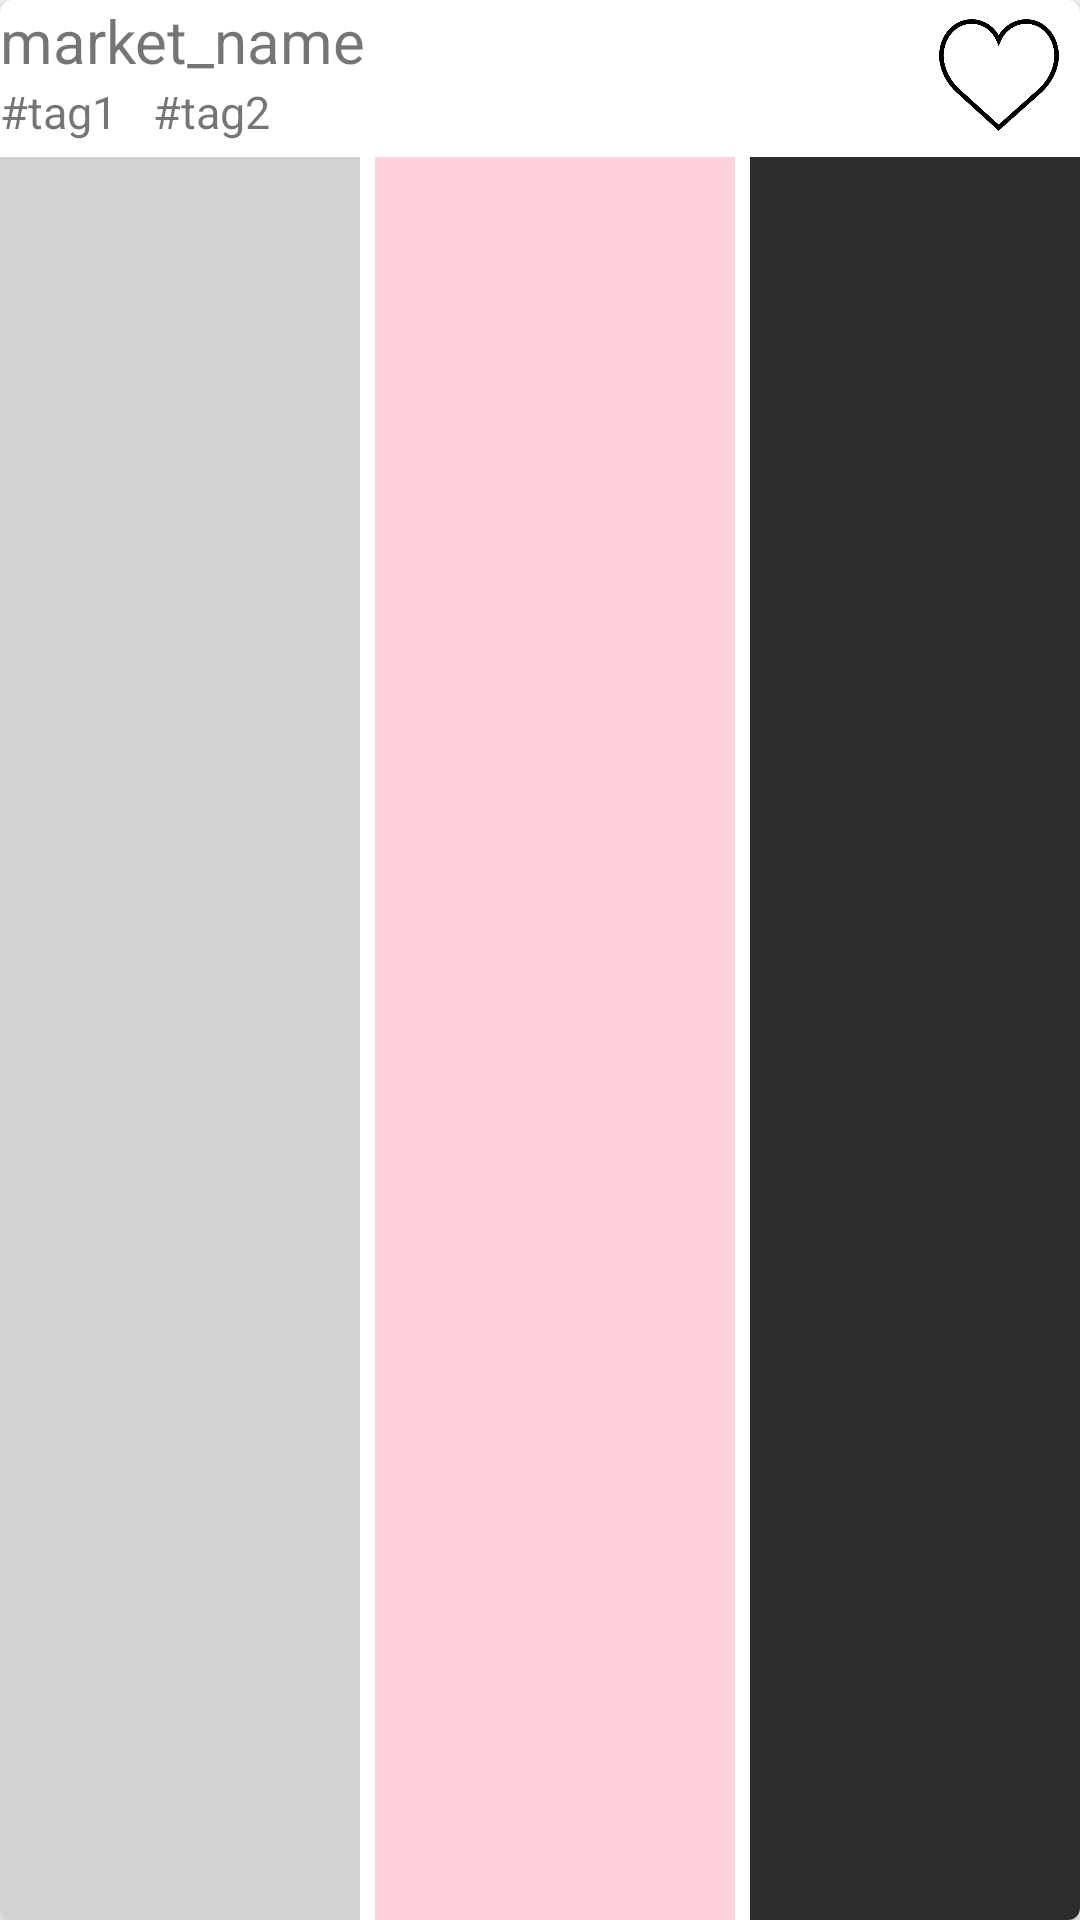

Locate icon controls on the screen. Image size 1080px×1920px, boxes as (x1, y1, x2, y2).
market bookmark: (939, 19, 1059, 131)
